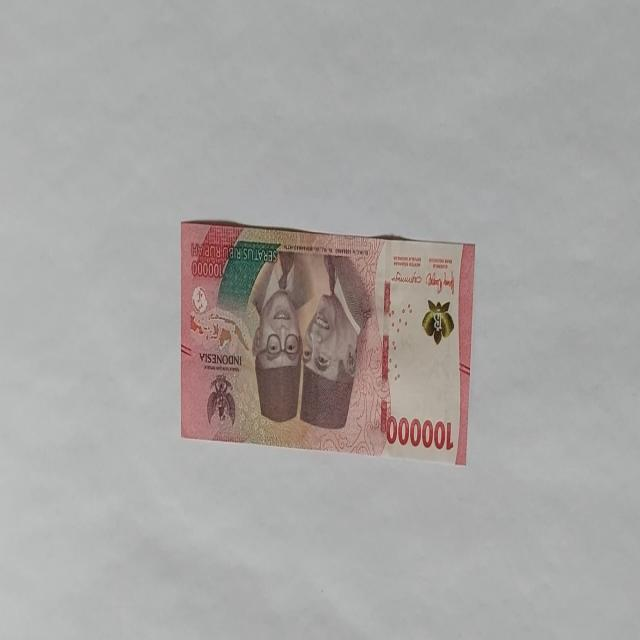seratus ribu rupiah: (180, 218, 474, 464)
